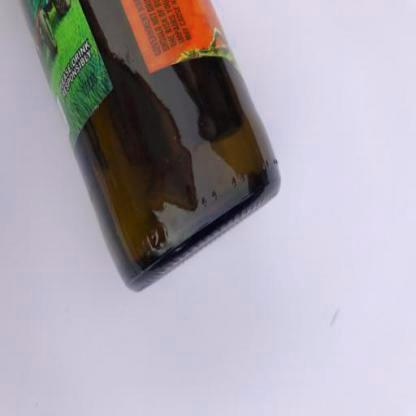Glass: (23, 2, 283, 296)
